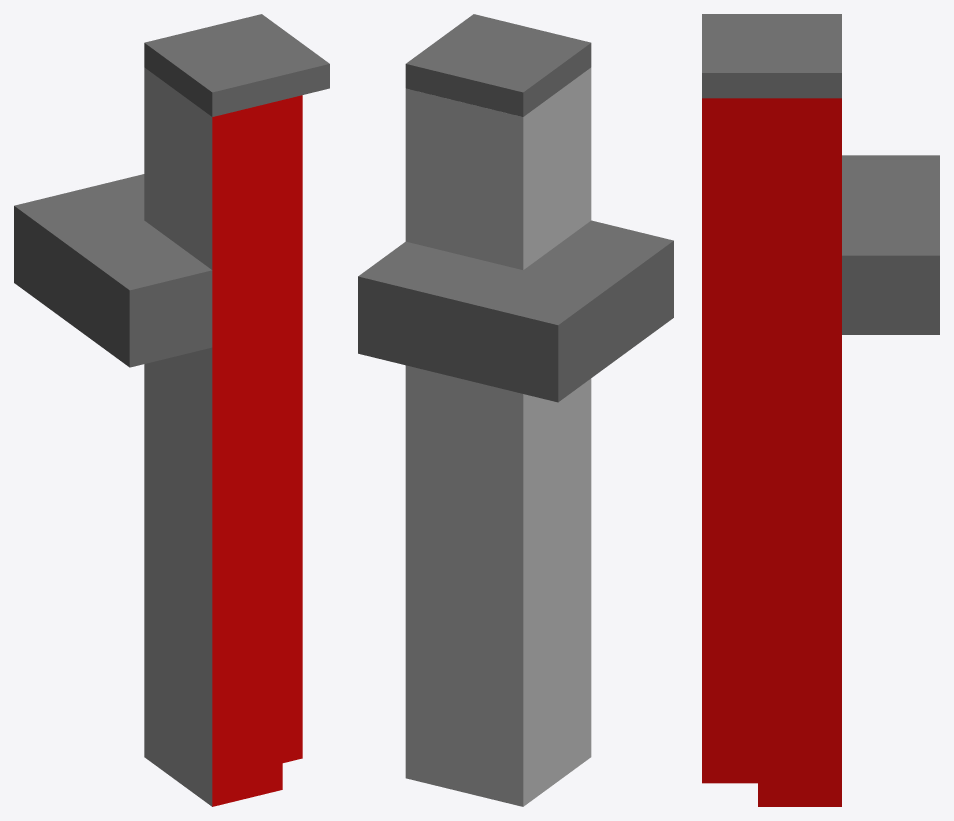
Rendered from AanrechtModularCornerOutsideProper.fbx.
3 views of the same model, side by side, from view 1: azimuth 30°, elevation 25°; view 2: azimuth 150°, elevation 25°; view 3: azimuth 270°, elevation 25° (orthographic). The views are drawn at different scales.
Visible parts, largest first — view 1: Aanrecht; view 2: Aanrecht; view 3: Aanrecht.
Part boxes in pixels (x1,y1,x2,y2): Aanrecht: (14,14,329,806); Aanrecht: (358,14,673,806); Aanrecht: (702,14,939,806).
Bounding box in the file's own units: 2.13 × 7.25 × 2.13.
